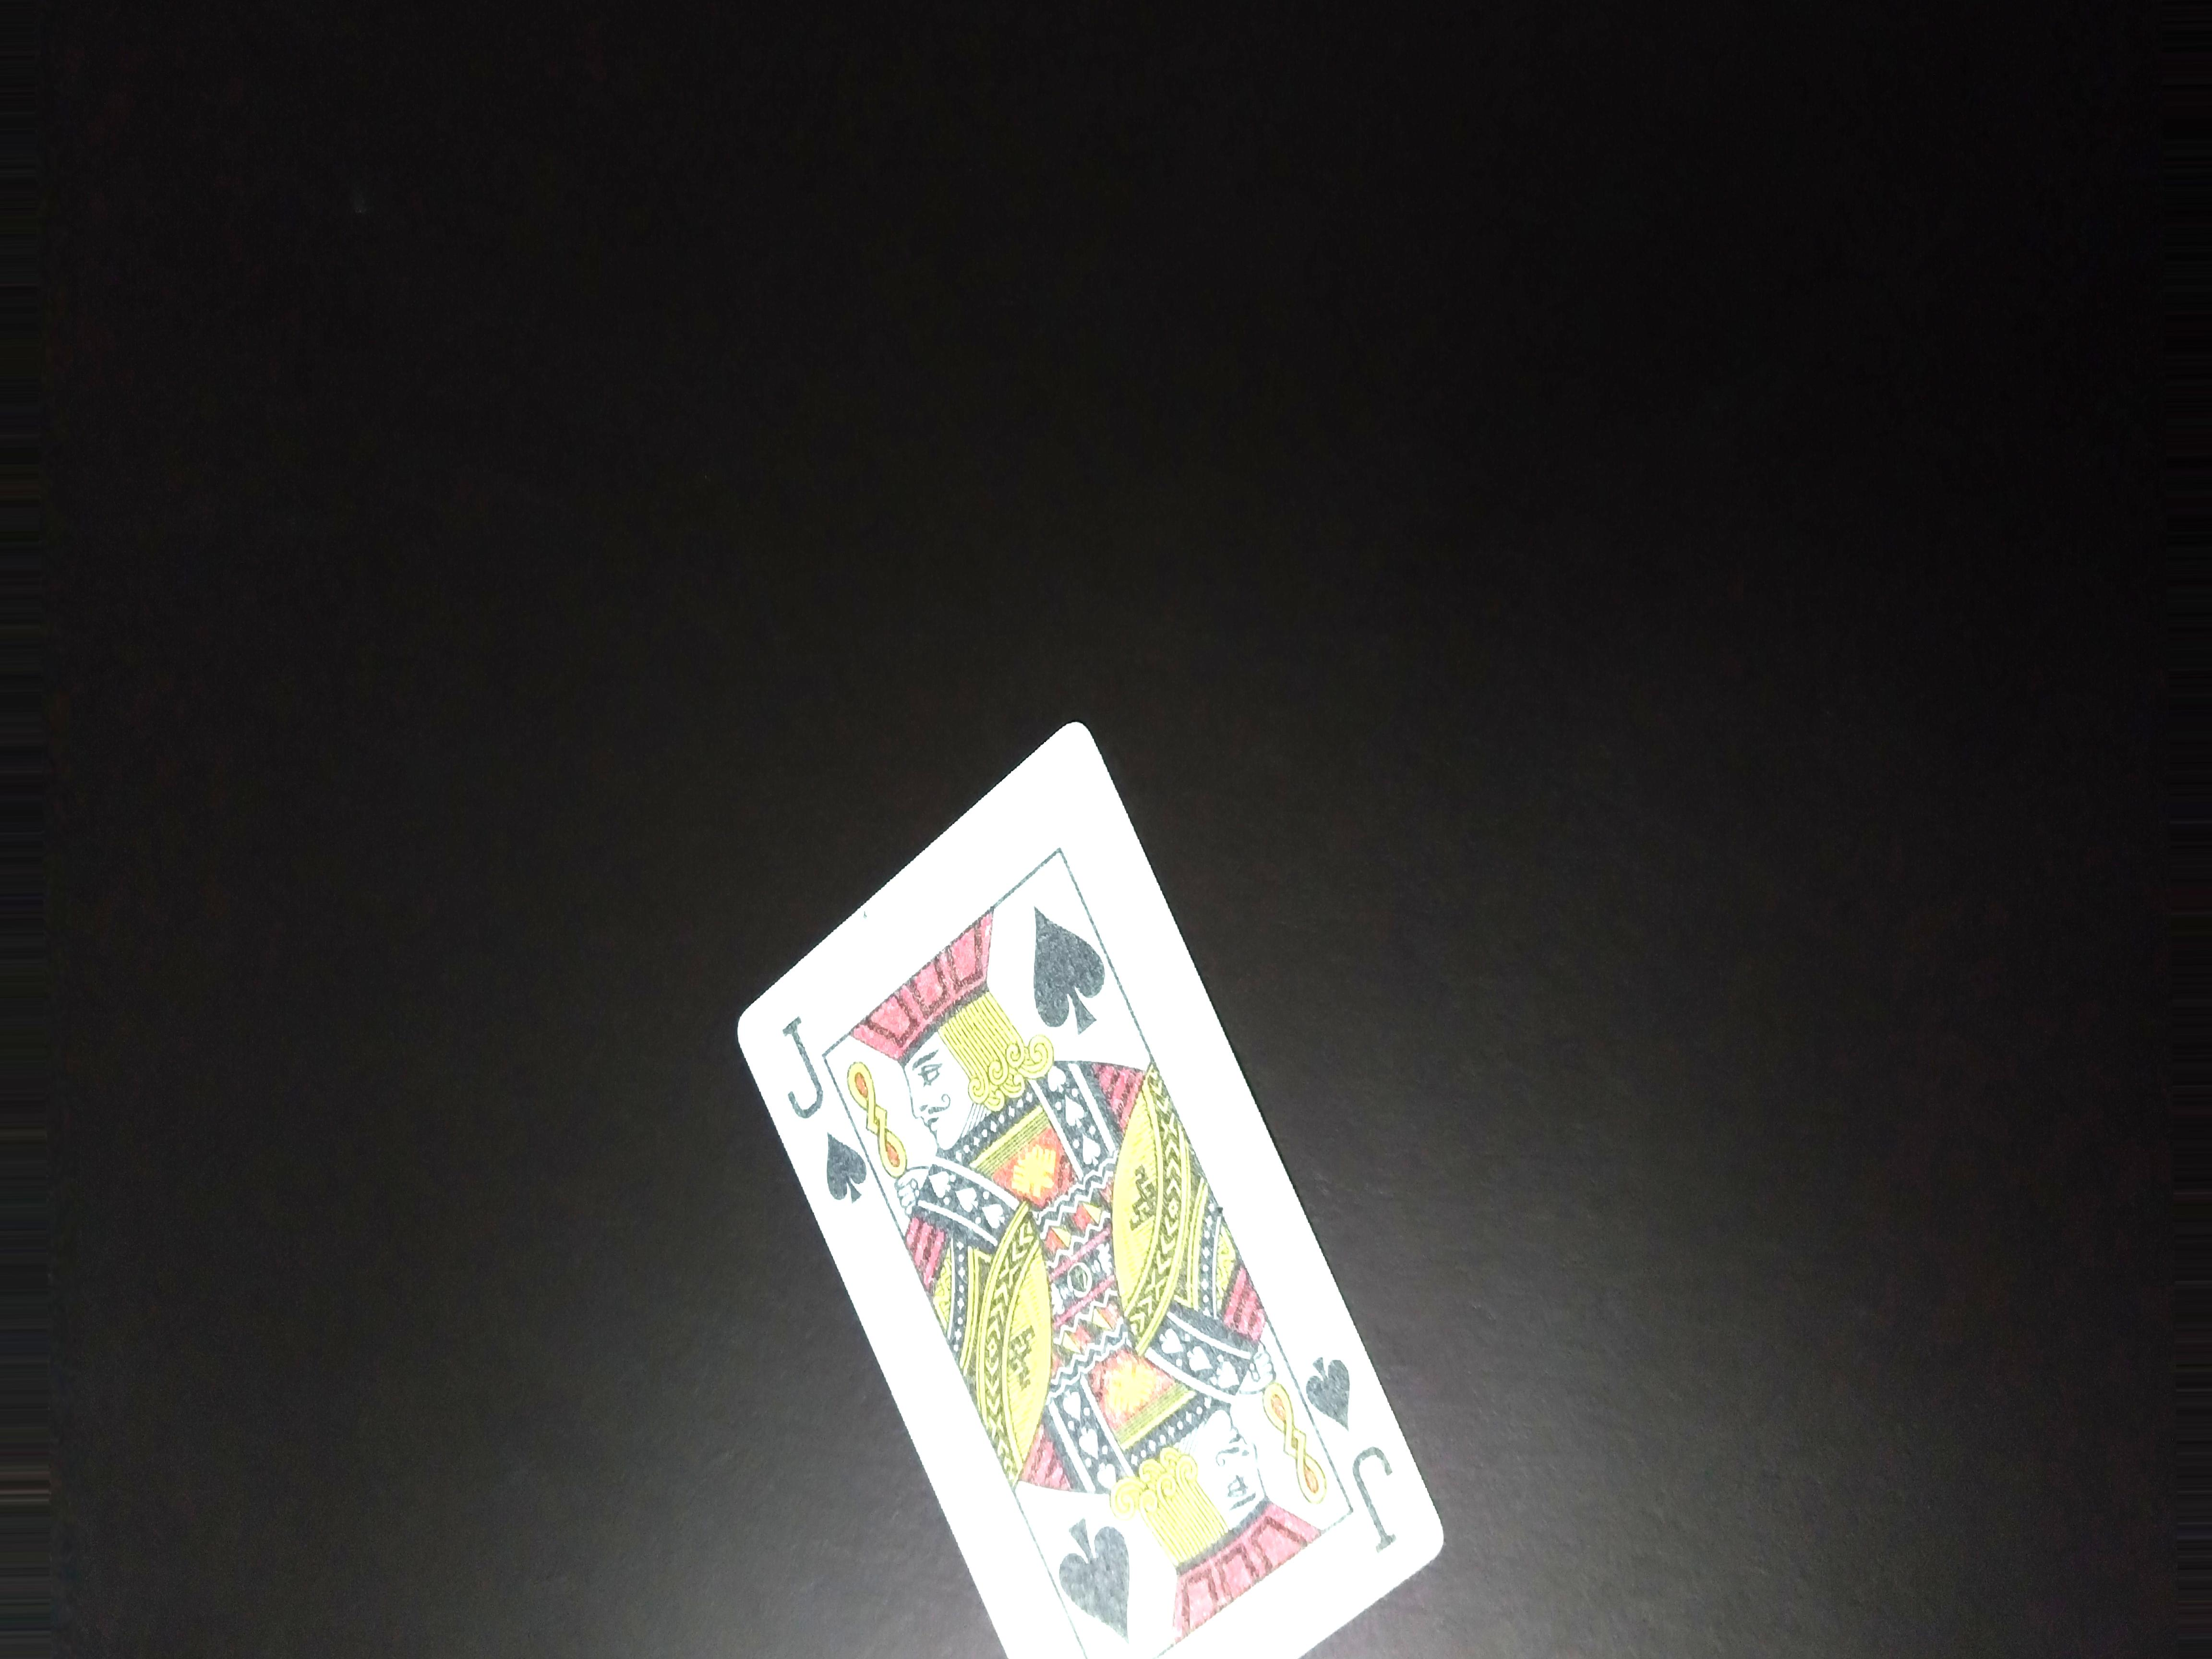JS: (775, 1007, 866, 1241)
